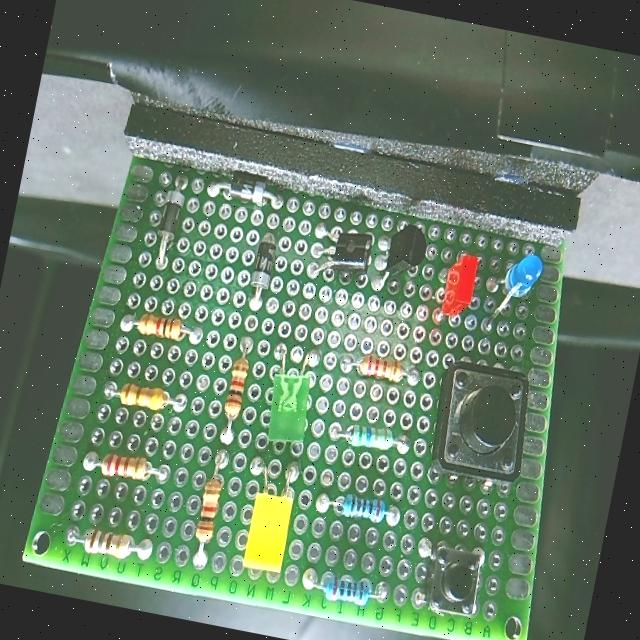diode: (243, 225, 285, 312), (152, 173, 192, 254), (212, 168, 278, 211)
led: (258, 358, 326, 459), (234, 482, 302, 582), (486, 236, 544, 326), (434, 245, 488, 326)
resistor: (188, 468, 231, 552), (68, 519, 140, 569), (89, 440, 158, 488), (124, 307, 190, 353), (104, 378, 174, 419), (219, 353, 257, 428), (334, 485, 388, 530), (352, 349, 408, 392), (320, 572, 376, 613), (346, 418, 400, 456)
switch: (424, 354, 541, 495), (420, 538, 493, 626)
transistor: (310, 220, 376, 290), (374, 212, 428, 292)
